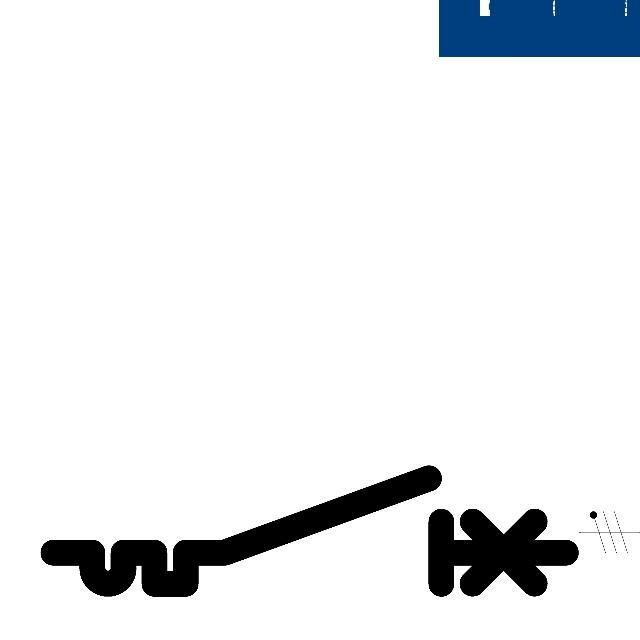interruptor_termomagnetico: (40, 465, 578, 597)
